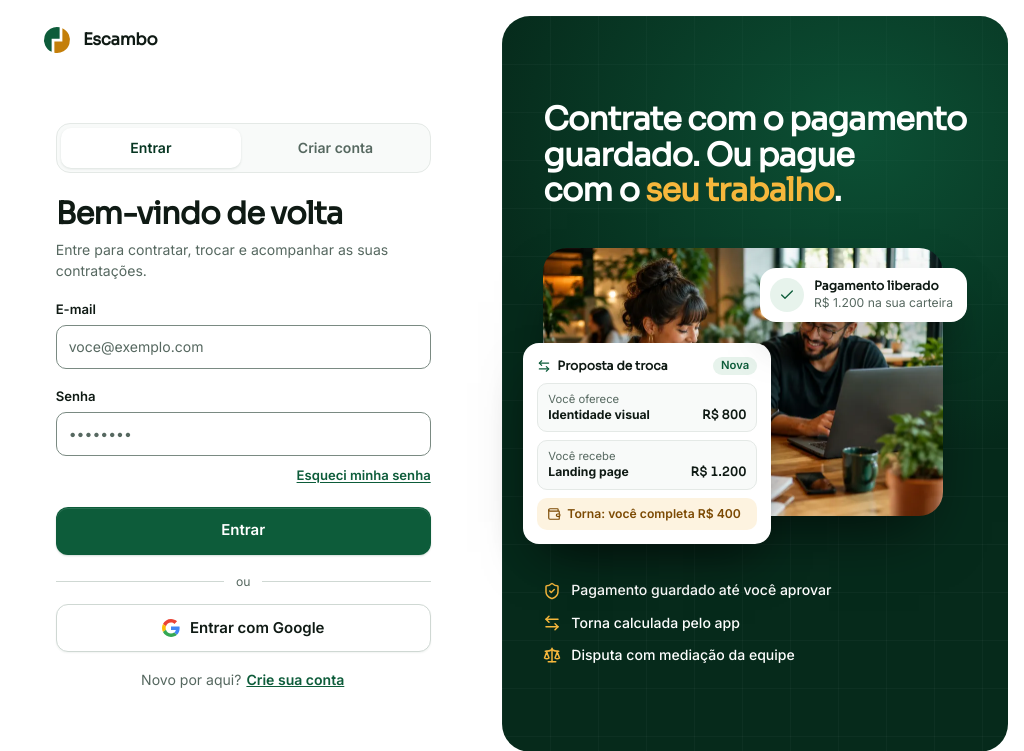
Scenario: LoginForm: login com Google (RF-002) › ligado: "Entrar com Google" no login; "Criar conta com Google" no cadastro, menos para empresa
Click the button "Criar conta" at (335, 148), box [245, 128, 426, 168]
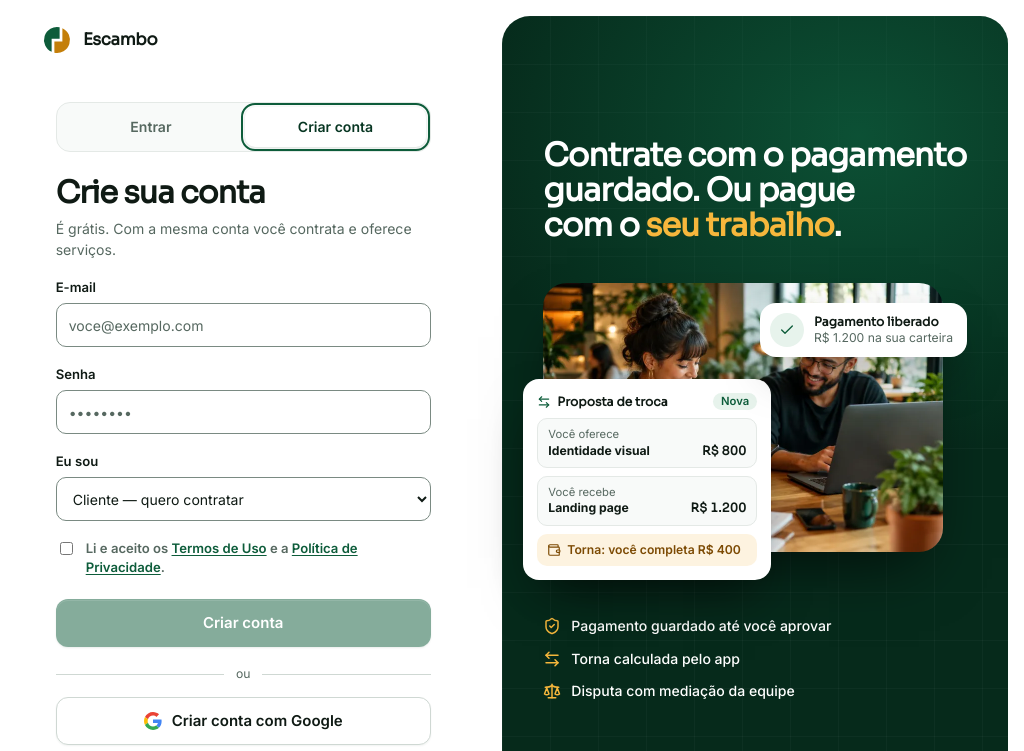
Expected: the link "Criar conta com Google" is shown, [56, 697, 431, 745]
# Empresa continua pelo cadastro com CNPJ: o botão some.
Select "Empresa — quero contratar" in the dropdown labelled "Eu sou" at (243, 499), box [56, 477, 431, 521]
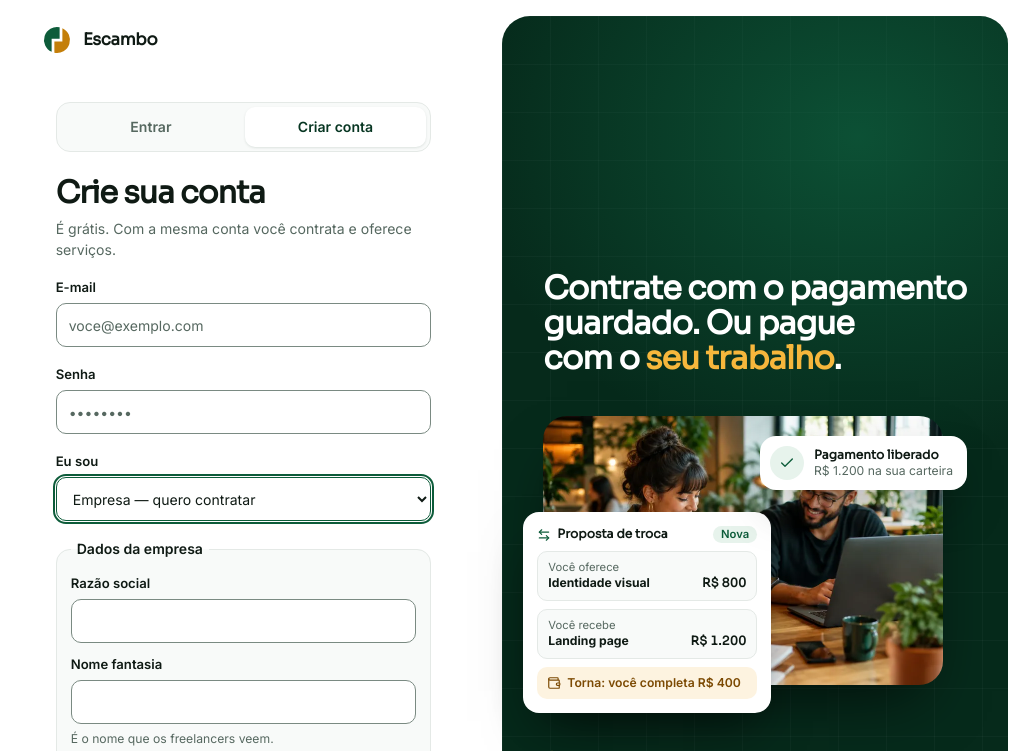
Expected: the link "com Google" is gone
